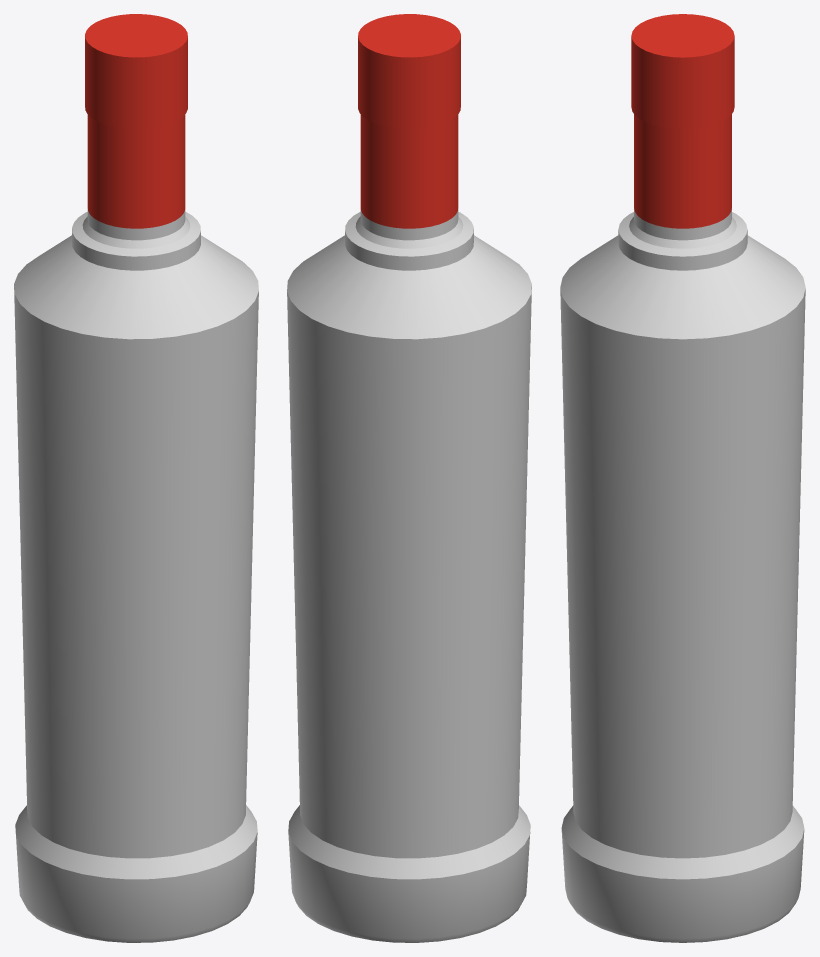
Rendered from SM_Bottle_Smirnoff.fbx.
The picture shows the model from 3 angles, left to right: view 1: azimuth 30°, elevation 25°; view 2: azimuth 150°, elevation 25°; view 3: azimuth 270°, elevation 25°; orthographic projection.
Visible parts, largest first — view 1: SM_Bottle_Smirnoff; view 2: SM_Bottle_Smirnoff; view 3: SM_Bottle_Smirnoff.
Boxes of the visible parts, left/top/right/bottom form: SM_Bottle_Smirnoff: left=14, top=14, right=258, bottom=942; SM_Bottle_Smirnoff: left=287, top=14, right=531, bottom=942; SM_Bottle_Smirnoff: left=560, top=14, right=805, bottom=942.
Size of the model in its own units: 7.21 by 27.91 by 7.21.
